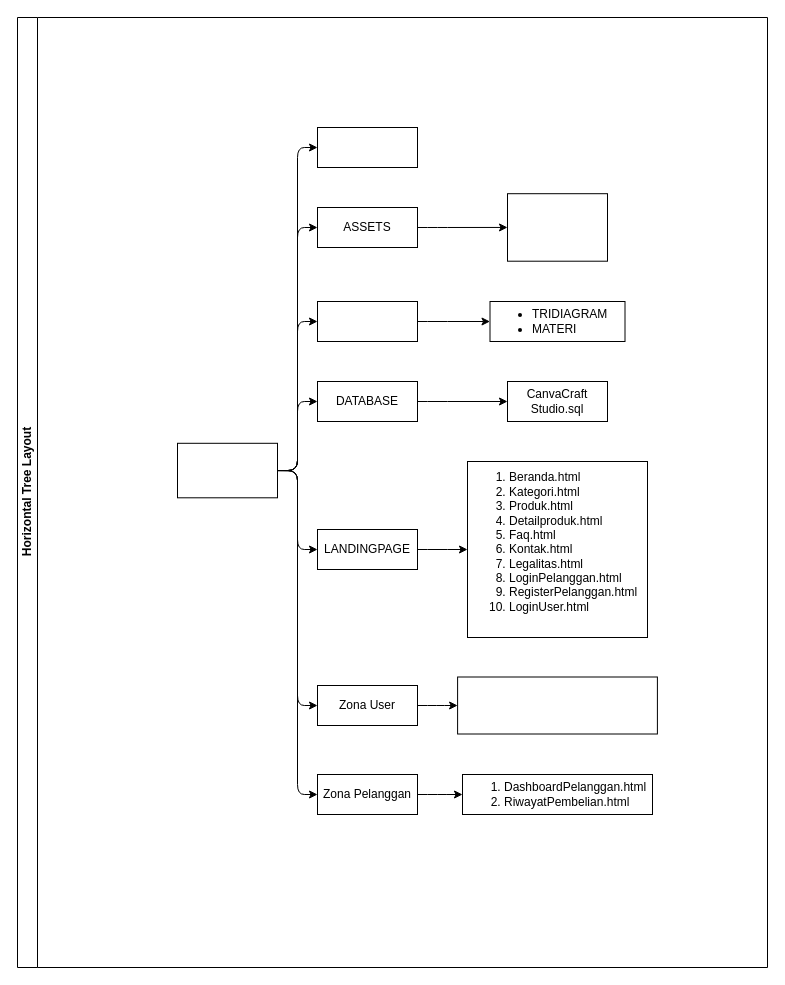
Some shapes in this 785 by 985 pixel diagram are drawn without their labels. The shapes that lost their labels are listed below. From the top down, each one's box as (x1, y1, x2, y2) in pixels, then its label:
(316, 126, 418, 168): INDEX.HTML
(506, 193, 608, 261): CSS IMG JS
(316, 300, 418, 342): DOCS
(176, 442, 278, 498): CanvaCraft Studio (Web UMKM)
(457, 676, 657, 734): DashboardPelanggan.html RiwayatPembelian.html Laporan.html
